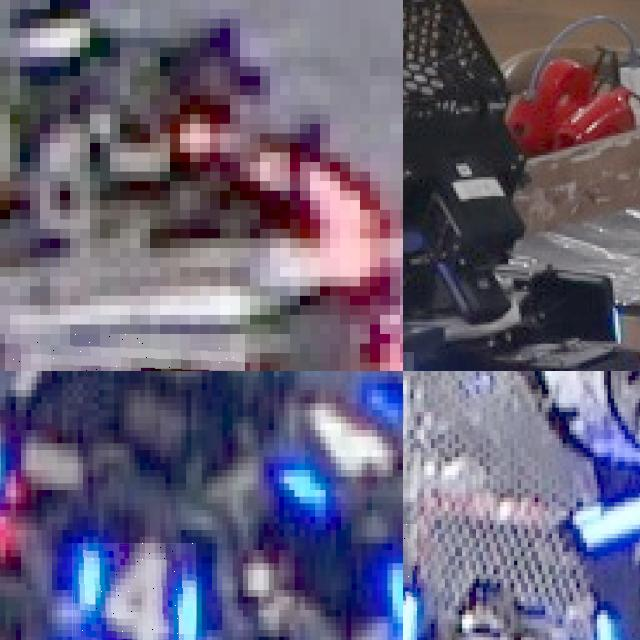B1: (593, 565, 640, 640)
B4: (72, 543, 196, 640), (382, 503, 403, 636)
R3: (5, 334, 245, 371)
